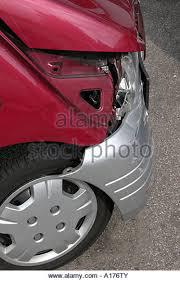rear-bumper-dent: (25, 77, 162, 187)
